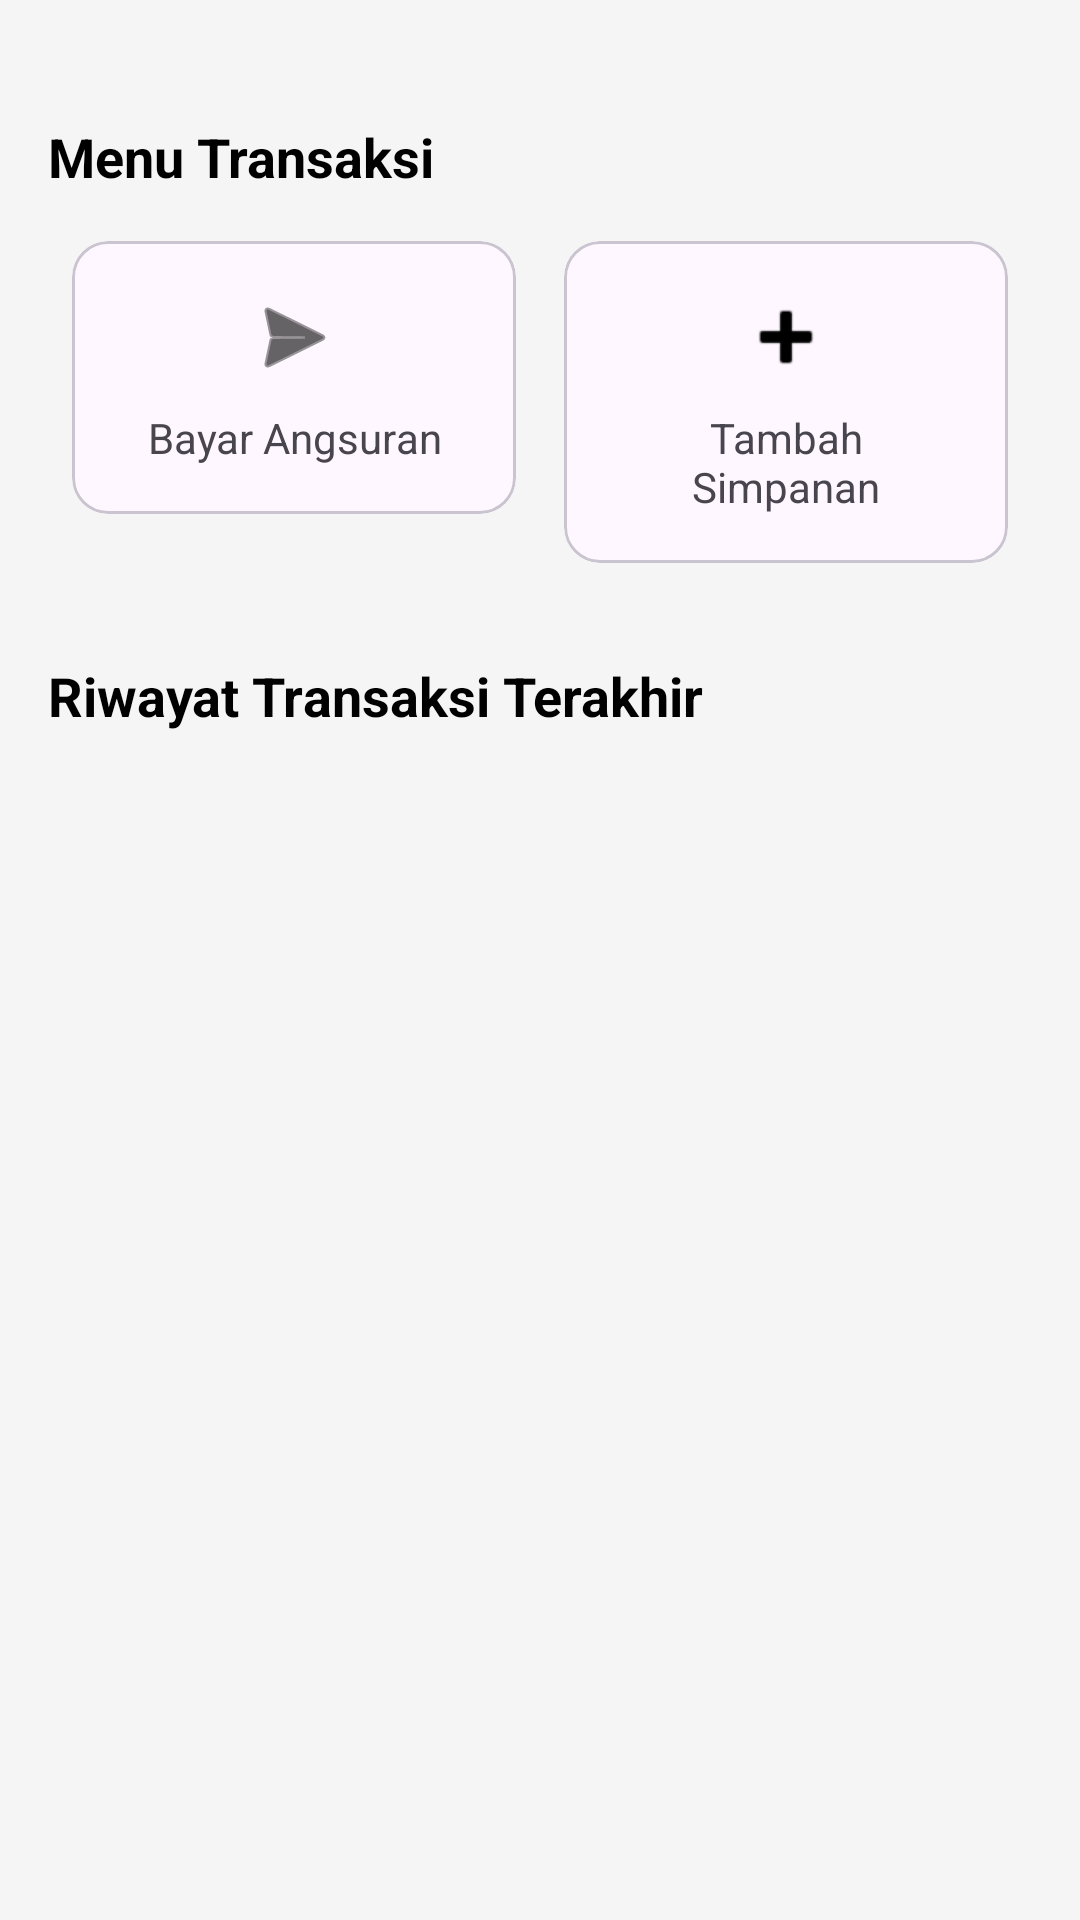

Named icons in this screenshot (1080px×1920px) and their centers, [x,y]:
add: [786,337]
send: [295,337]
